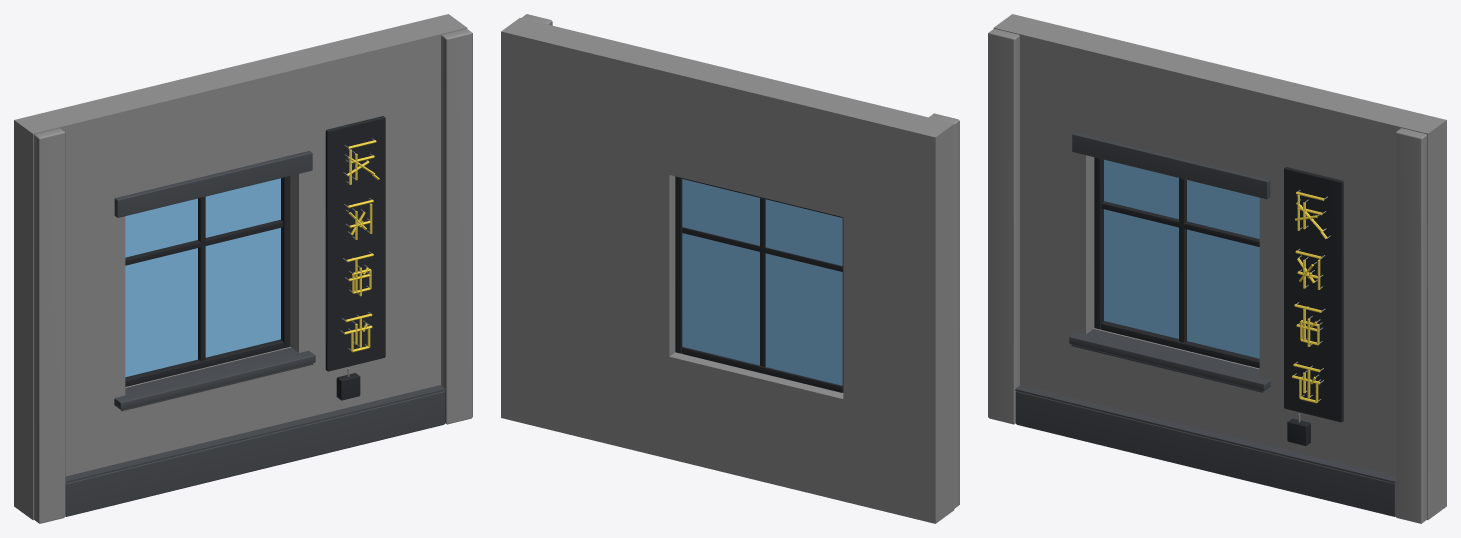
Rendered from Building_Facade_Concrete_Window_Neon.fbx.
The picture shows the model from 3 angles, left to right: view 1: azimuth 30°, elevation 25°; view 2: azimuth 150°, elevation 25°; view 3: azimuth 330°, elevation 25°; orthographic projection.
Visible parts, largest first — view 1: Building_Facade_Concrete_Window_Neon_LOD0; view 2: Building_Facade_Concrete_Window_Neon_LOD0; view 3: Building_Facade_Concrete_Window_Neon_LOD0.
Boxes of the visible parts, box(x1,y1,x2,y2) form: Building_Facade_Concrete_Window_Neon_LOD0: box(14, 14, 472, 523); Building_Facade_Concrete_Window_Neon_LOD0: box(501, 14, 959, 523); Building_Facade_Concrete_Window_Neon_LOD0: box(988, 14, 1446, 523).
Size of what is drawn, in the model's own units: 4 by 3.4 by 0.42.
